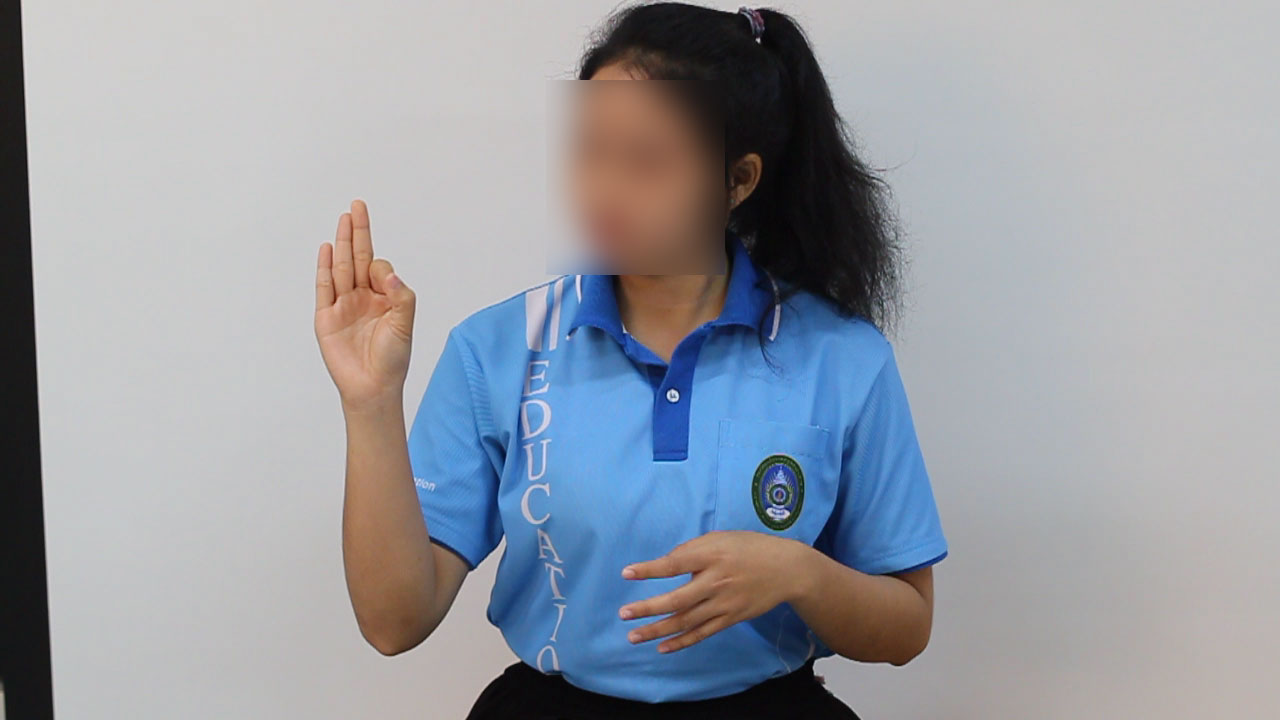for: (308, 192, 423, 433)
